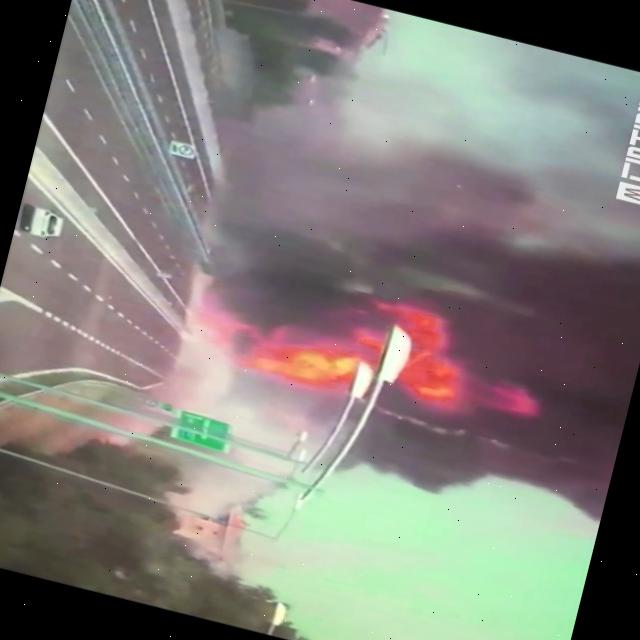explosion: (89, 72, 640, 551)
